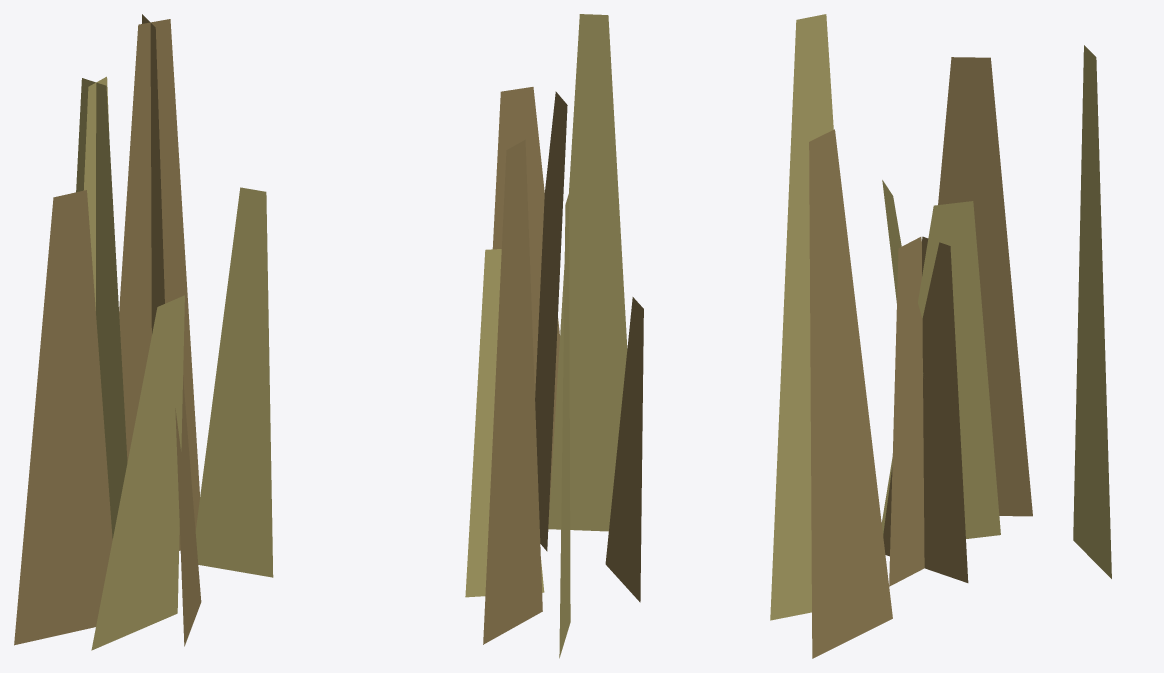
Rendered from nong.dao@subadult__autumn.glb.
3 views of the same model, side by side, from view 1: azimuth 30°, elevation 25°; view 2: azimuth 150°, elevation 25°; view 3: azimuth 270°, elevation 25° (orthographic). The views are drawn at different scales.
Parts seen in each view (by area): view 1: nong.dao@subadult__autumn; view 2: nong.dao@subadult__autumn; view 3: nong.dao@subadult__autumn.
Boxes of the visible parts, x1=… form: nong.dao@subadult__autumn: x1=14, y1=14, x2=273, y2=650; nong.dao@subadult__autumn: x1=465, y1=14, x2=643, y2=658; nong.dao@subadult__autumn: x1=770, y1=14, x2=1111, y2=658.
Bounding box in the file's own units: 0.3454 × 0.5597 × 0.3268.
